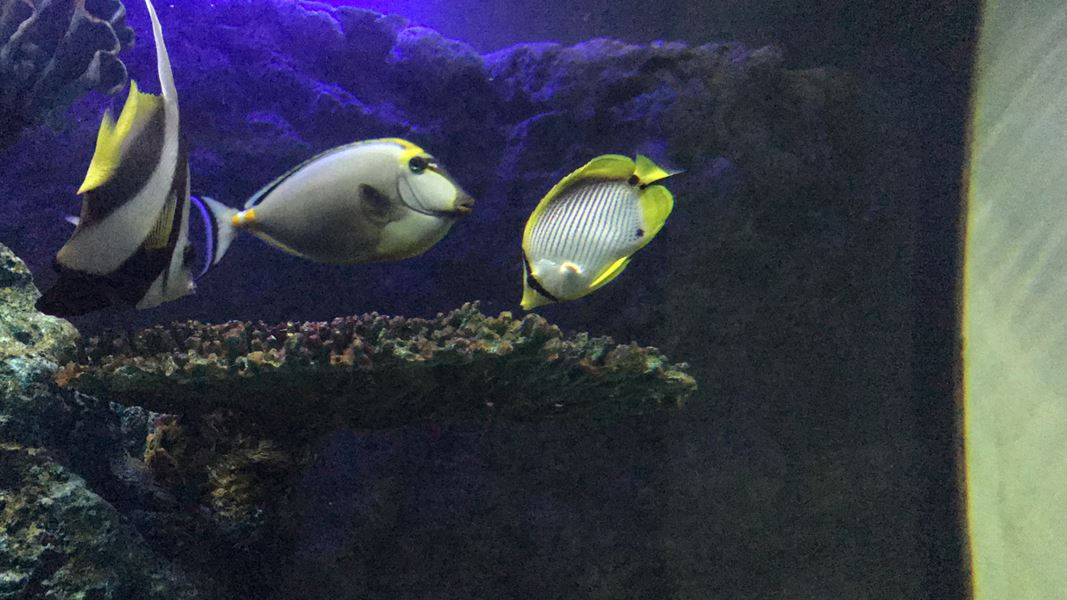Black-backed butterflyfish: (508, 129, 697, 319)
